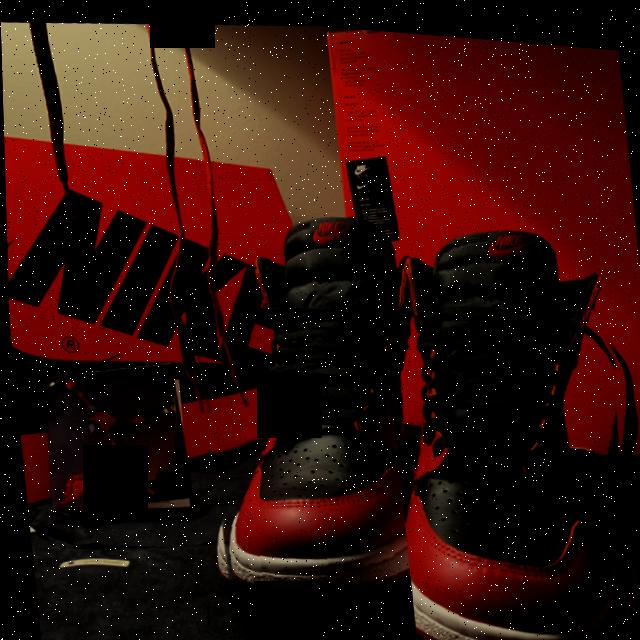shoe: (374, 203, 640, 640), (178, 196, 444, 613)
